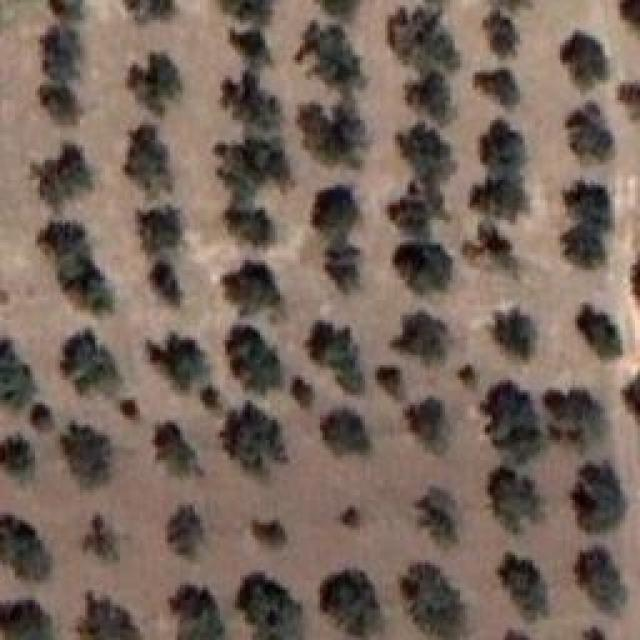Tree: (395, 123, 456, 216), (400, 565, 468, 640), (480, 384, 543, 464), (220, 400, 288, 472), (388, 8, 461, 72), (238, 573, 303, 640), (320, 570, 384, 638), (305, 323, 364, 395), (300, 102, 365, 167), (295, 23, 360, 86), (33, 143, 94, 210), (573, 460, 628, 532), (225, 325, 281, 393), (62, 330, 120, 395), (388, 240, 456, 294), (223, 70, 283, 131), (488, 465, 541, 533), (125, 123, 174, 196), (150, 333, 210, 391), (128, 53, 184, 115), (215, 140, 290, 186), (498, 553, 548, 621), (55, 255, 115, 311), (0, 515, 51, 580), (223, 260, 283, 315), (578, 545, 627, 612), (63, 422, 112, 487), (393, 310, 449, 365), (170, 585, 225, 640), (548, 390, 601, 446), (560, 32, 608, 92), (567, 102, 615, 162), (82, 593, 142, 640), (463, 220, 517, 272), (467, 172, 526, 218), (408, 73, 458, 126), (477, 120, 528, 171), (415, 487, 458, 547), (0, 337, 36, 407), (40, 25, 81, 85), (578, 305, 623, 358), (495, 308, 539, 361), (310, 185, 357, 234), (320, 408, 370, 454), (560, 223, 611, 268), (155, 425, 200, 475), (138, 205, 183, 255), (225, 205, 276, 248), (325, 238, 366, 291), (563, 178, 611, 222), (0, 600, 52, 640), (405, 403, 444, 454), (35, 220, 86, 259), (168, 505, 204, 557), (385, 198, 433, 237), (230, 28, 271, 71), (483, 10, 519, 58), (475, 70, 521, 107), (43, 83, 83, 125), (83, 513, 118, 561), (220, 0, 275, 26), (0, 432, 35, 472), (150, 260, 181, 305), (123, 0, 173, 23), (253, 517, 288, 547), (622, 373, 640, 423), (617, 82, 640, 119), (378, 368, 403, 401), (47, 0, 83, 19), (293, 378, 314, 408), (320, 0, 360, 15), (30, 403, 51, 431), (622, 0, 640, 28), (200, 385, 220, 410), (458, 365, 477, 390), (630, 255, 640, 301), (340, 508, 360, 528), (120, 400, 136, 420)
